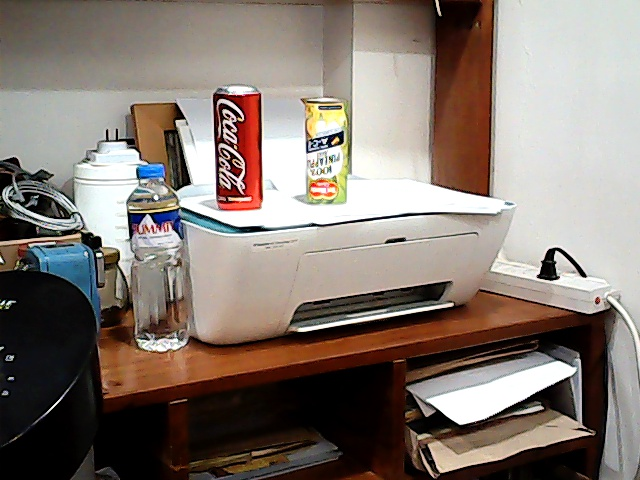Cola: (209, 80, 276, 213)
Pine Juice: (295, 94, 361, 216)
Summit Water: (126, 162, 188, 352)
